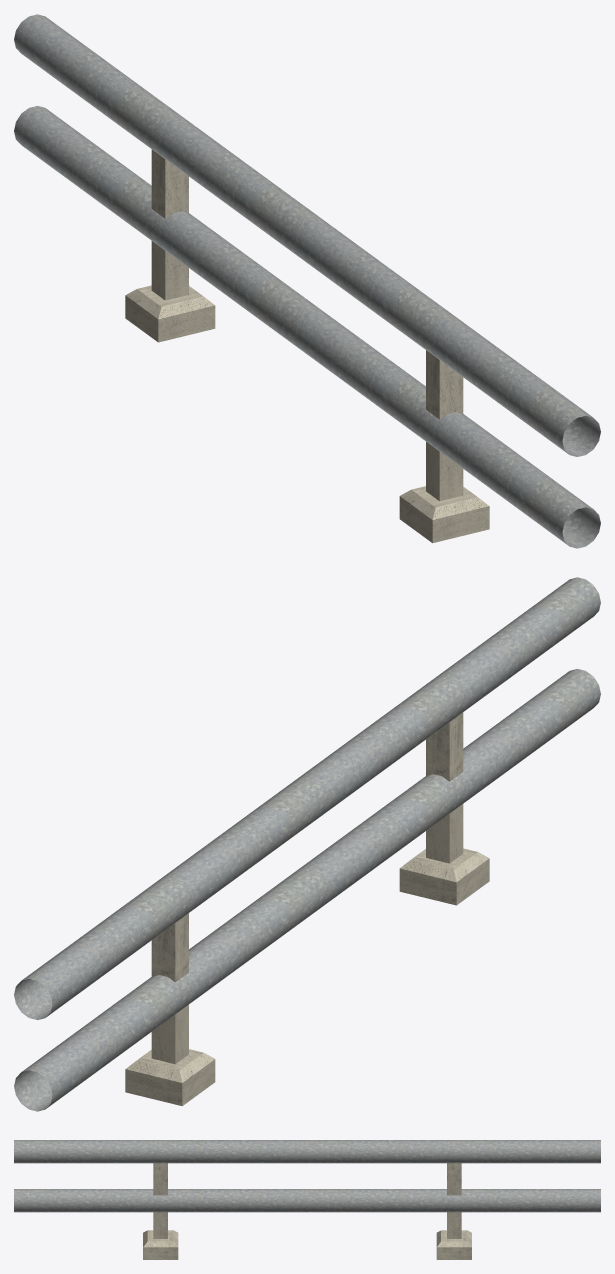
File: GSDRailing6-5M-Double.fbx
3 views of the same model, one above another, from view 1: azimuth 30°, elevation 25°; view 2: azimuth 150°, elevation 25°; view 3: azimuth 270°, elevation 25° (orthographic). The views are drawn at different scales.
Parts seen in each view (by area): view 1: GSDRailing6-5M-Double; view 2: GSDRailing6-5M-Double; view 3: GSDRailing6-5M-Double.
Boxes of the visible parts, x1=… form: GSDRailing6-5M-Double: x1=14, y1=14, x2=600, y2=548; GSDRailing6-5M-Double: x1=14, y1=577, x2=600, y2=1111; GSDRailing6-5M-Double: x1=14, y1=1140, x2=600, y2=1259.
Bounding box in the file's own units: 0.3 × 1.05 × 5.
